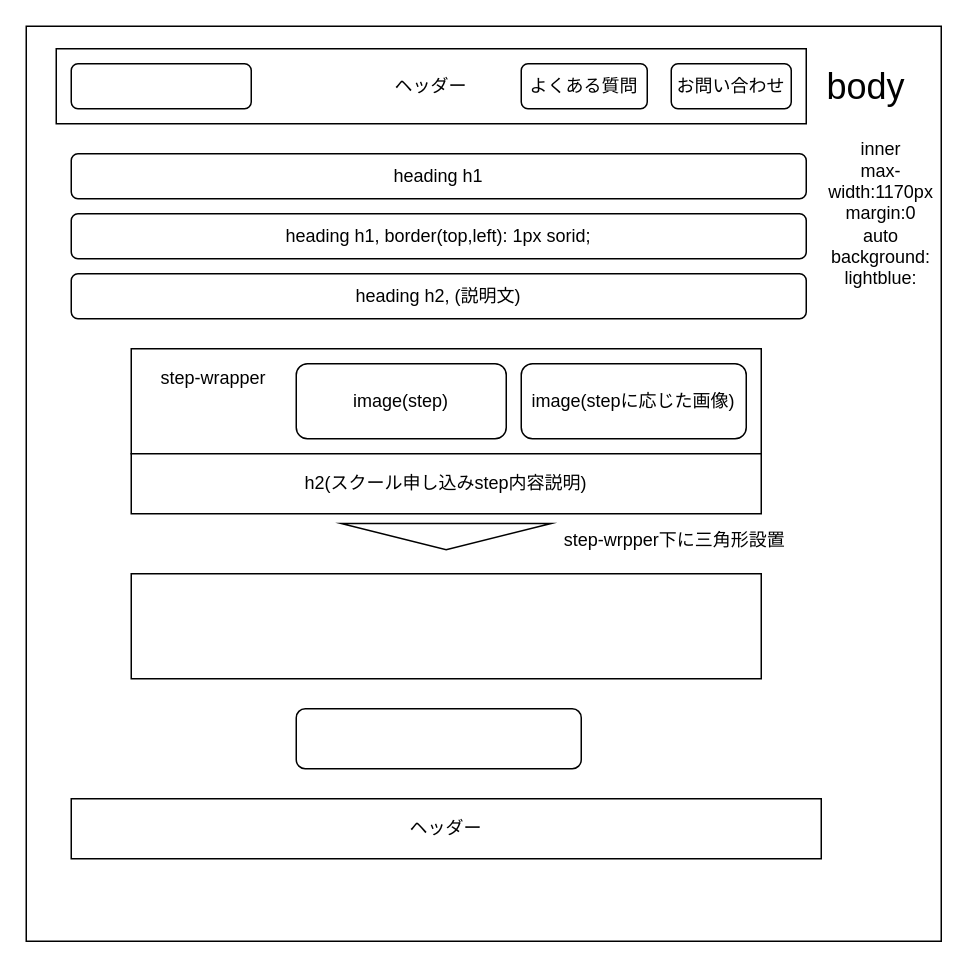
The diagram is 968 pixels wide and 968 high, and some of its shapes have lost their labels. Each missing label, with the centre of its shape:
step-wrapperの繰り返し: point (445, 625)
スクール入校ボタン: point (438, 738)
ロゴ画像: point (160, 85)
